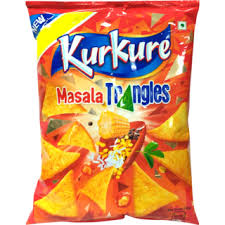kurkure: (54, 30, 179, 74)
plastic: (27, 1, 191, 223)
wrapper: (41, 16, 186, 216)
